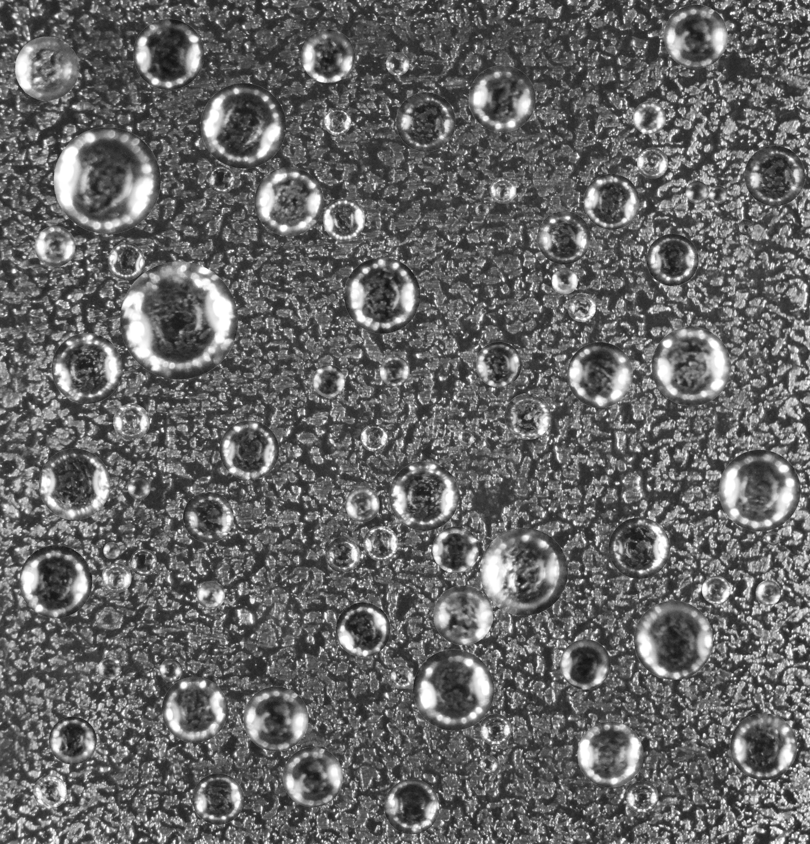Bubble: (120, 261, 237, 379), (53, 127, 160, 233), (480, 527, 567, 615), (200, 83, 286, 168), (719, 449, 800, 531), (413, 649, 494, 730), (651, 326, 730, 405), (634, 600, 713, 679), (344, 257, 420, 333), (19, 545, 92, 618), (38, 448, 110, 519), (133, 18, 204, 89), (51, 333, 122, 403), (389, 461, 458, 530), (254, 167, 323, 235), (730, 713, 797, 780), (468, 65, 535, 132), (577, 721, 643, 787), (161, 677, 227, 742), (243, 686, 308, 751), (567, 342, 632, 407), (664, 4, 727, 68), (15, 36, 78, 100), (608, 517, 670, 578), (744, 145, 805, 206), (433, 585, 493, 645), (282, 747, 342, 807), (396, 92, 455, 151), (219, 420, 278, 479), (583, 173, 639, 229), (335, 602, 390, 657), (384, 779, 439, 834), (537, 211, 590, 264), (301, 29, 354, 82), (646, 233, 698, 285), (192, 773, 243, 824), (560, 639, 610, 689), (183, 492, 233, 542), (48, 716, 96, 764), (432, 526, 479, 573), (504, 393, 551, 439), (476, 341, 521, 387), (323, 198, 365, 240), (34, 226, 75, 266), (107, 242, 144, 279), (113, 403, 149, 440), (325, 537, 360, 572), (363, 526, 398, 560), (345, 487, 379, 521), (33, 775, 66, 808), (633, 101, 665, 134), (312, 364, 344, 397), (626, 781, 658, 813), (479, 714, 511, 745), (637, 147, 668, 178), (379, 356, 409, 386), (101, 563, 131, 592), (567, 293, 596, 321), (702, 575, 730, 604), (196, 581, 224, 609), (323, 108, 351, 135), (360, 424, 387, 451), (208, 166, 235, 193), (489, 177, 516, 203), (551, 267, 577, 294), (130, 549, 156, 575), (755, 580, 781, 605), (390, 665, 413, 689), (127, 476, 150, 499), (98, 656, 121, 679), (685, 180, 708, 203), (386, 52, 409, 75), (159, 659, 182, 681), (709, 185, 727, 203), (480, 755, 497, 772), (103, 542, 120, 559), (457, 429, 474, 445), (738, 219, 753, 235), (475, 202, 489, 216), (766, 532, 780, 545)
